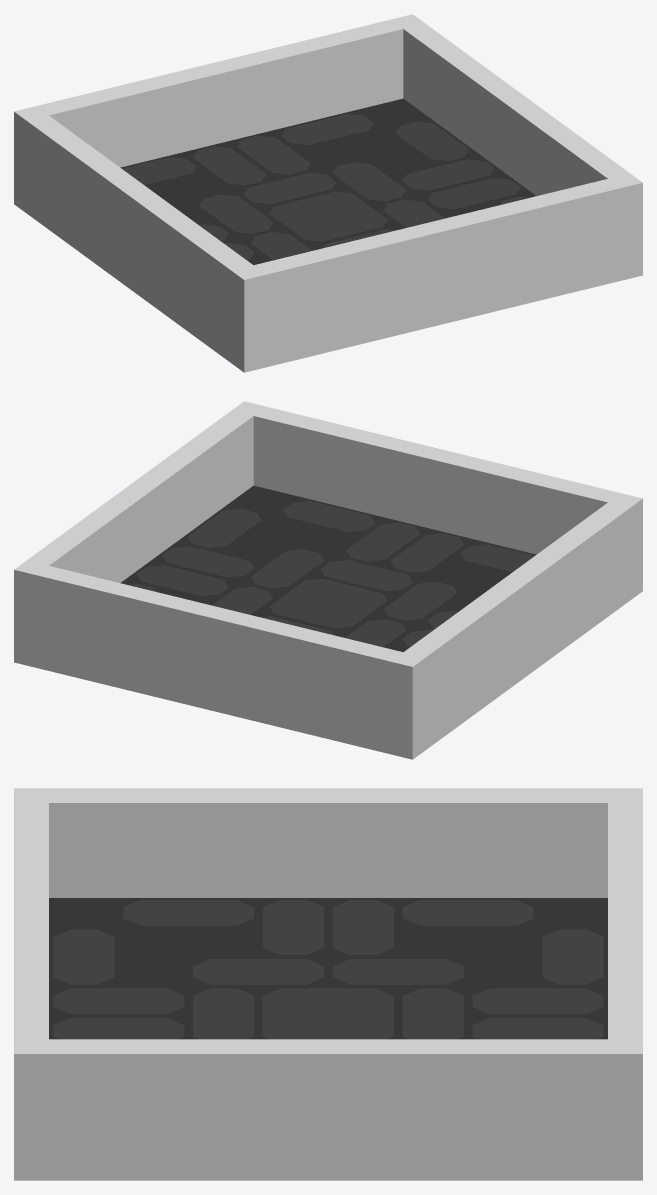
The model's file is room002.FBX.
3 views of the same model, one above another, from view 1: azimuth 30°, elevation 25°; view 2: azimuth 150°, elevation 25°; view 3: azimuth 270°, elevation 25° (orthographic). The views are drawn at different scales.
Visible parts, largest first — view 1: Box002, Box001, Box003, Box004, Box005; view 2: Box003, Box001, Box002, Box004, Box005; view 3: Box005, Box001, Box004, Box002, Box003.
Boxes of the visible parts, x1,y1,x2,y2 form: Box002: [231, 173, 642, 372]; Box001: [120, 98, 536, 265]; Box003: [14, 14, 424, 212]; Box004: [26, 115, 266, 372]; Box005: [393, 16, 640, 280]; Box003: [14, 560, 425, 759]; Box001: [120, 485, 536, 652]; Box002: [232, 401, 642, 599]; Box004: [390, 493, 642, 758]; Box005: [14, 402, 265, 667]; Box005: [14, 1039, 642, 1180]; Box001: [49, 898, 607, 1039]; Box004: [14, 788, 642, 897]; Box002: [14, 788, 48, 1179]; Box003: [608, 788, 642, 1116].
Size of the model in its own units: 709 by 157 by 709.
Materials: 1 (1 with a texture image).
